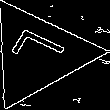L_SE: (5, 28, 71, 80)
